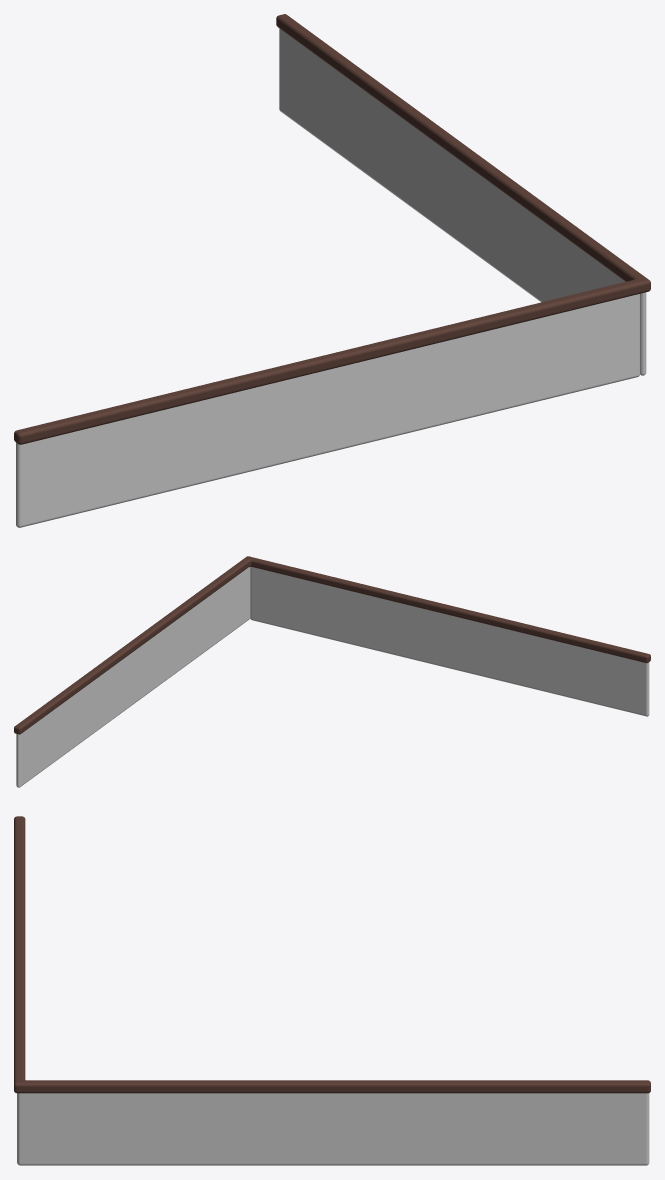
3 renders of one model, top to bottom at view 1: azimuth 30°, elevation 25°; view 2: azimuth 150°, elevation 25°; view 3: azimuth 270°, elevation 25°, orthographic. The views are drawn at different scales.
Visible parts, largest first — view 1: Cube.003; view 2: Cube.003; view 3: Cube.003.
Part boxes in pixels (x1,y1,x2,y2): Cube.003: (14, 14, 650, 527); Cube.003: (14, 556, 650, 787); Cube.003: (14, 816, 650, 1165).
Bounding box in the file's own units: 8.13 × 1.18 × 8.14.
